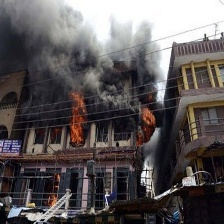fire: (67, 89, 87, 142), (137, 102, 156, 145), (45, 173, 61, 207)
smoke: (1, 1, 157, 111)
